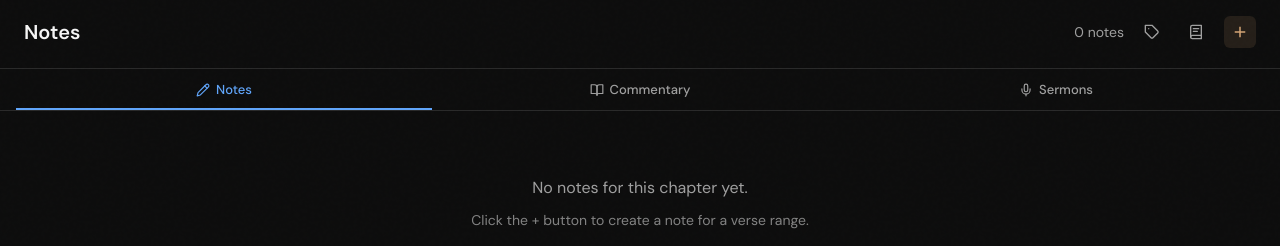
NotesPanel › empty state › shows empty state for sermons tab
// Switch to sermons tab
Step 1. Click the button "Sermons" → (1056, 90), box [848,69,1264,110]
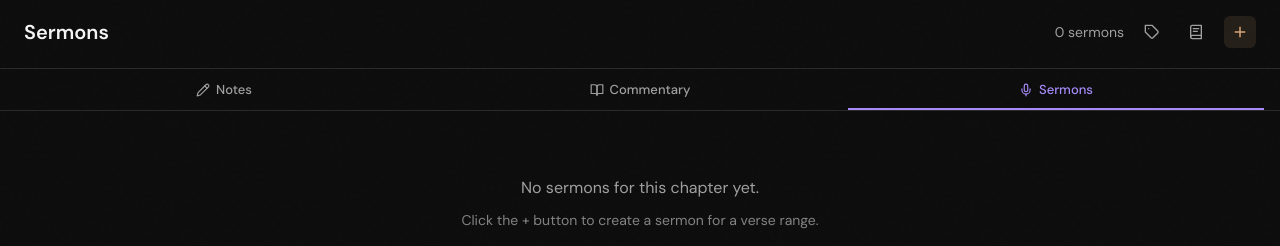
Result: the text "No sermons for this chapter yet." is shown at [521,177,759,198]
